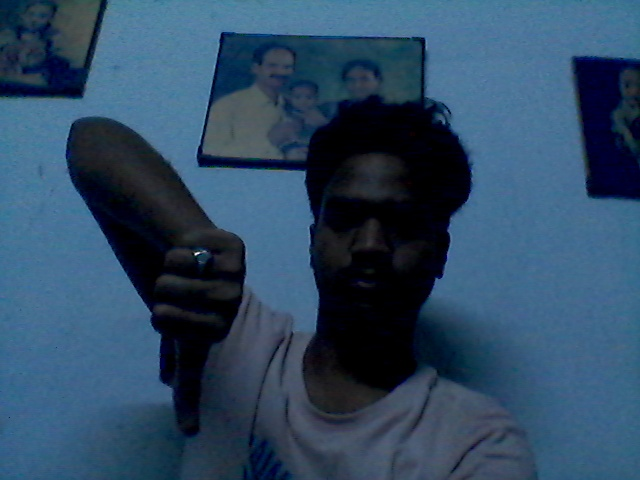Please: (132, 221, 260, 448)
